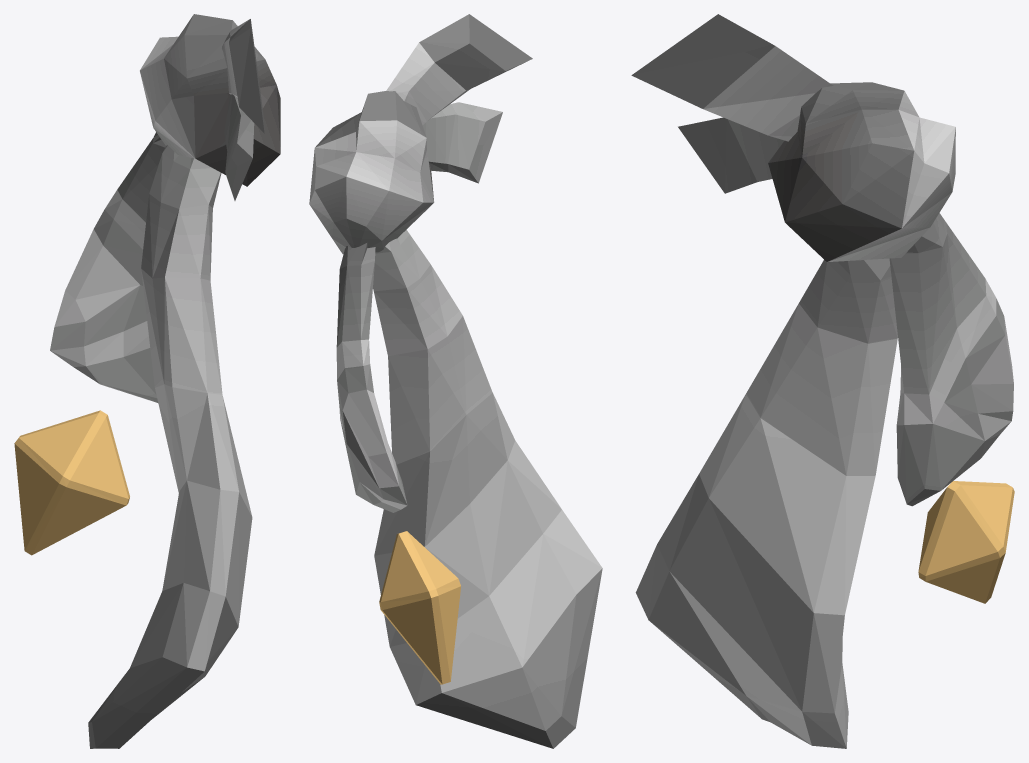
Rendered from CharSkyKid_Hat_AP25BlueRibbon.glb.
3 renders of one model, left to right at view 1: azimuth 30°, elevation 25°; view 2: azimuth 150°, elevation 25°; view 3: azimuth 270°, elevation 25°, orthographic. The views are drawn at different scales.
Visible parts, largest first — view 1: CharSkyKid_Hat_AP25BlueRibbon; view 2: CharSkyKid_Hat_AP25BlueRibbon; view 3: CharSkyKid_Hat_AP25BlueRibbon.
Boxes of the visible parts, bbox=[...] form: CharSkyKid_Hat_AP25BlueRibbon: bbox=[14, 14, 280, 748]; CharSkyKid_Hat_AP25BlueRibbon: bbox=[309, 14, 602, 748]; CharSkyKid_Hat_AP25BlueRibbon: bbox=[631, 14, 1014, 748].
Size of the model in its own units: 1.06 by 3.28 by 1.48.
Materials: 1 (1 with a texture image).
